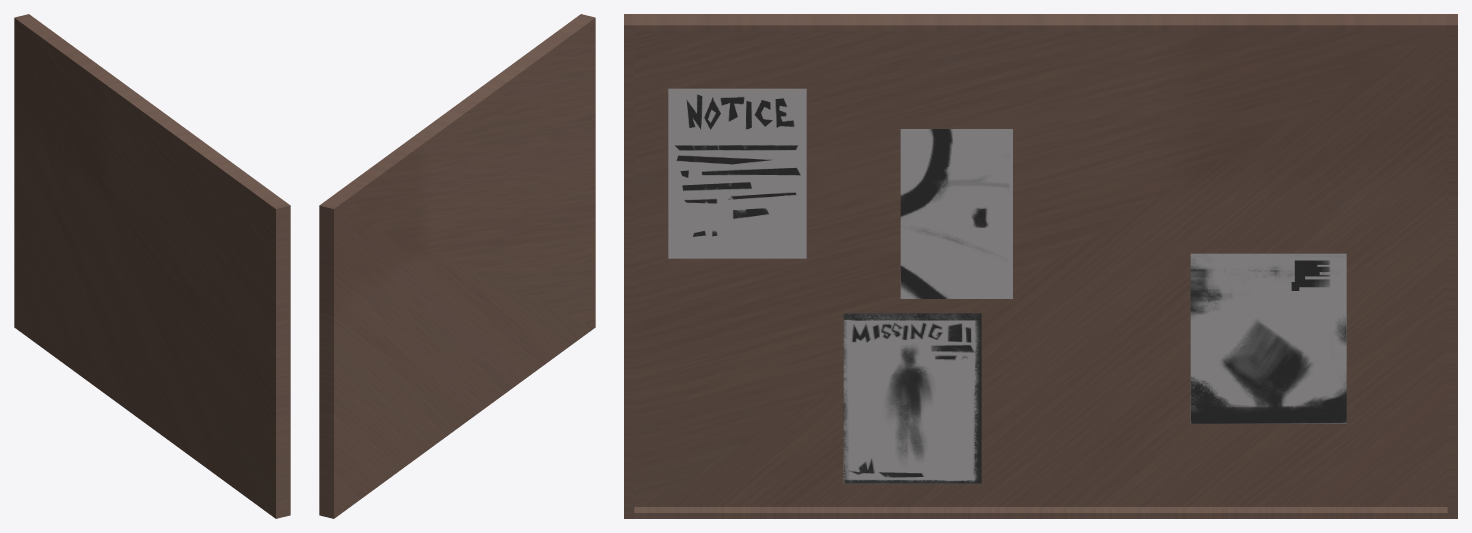
Rendered from Bulletin.fbx.
3 renders of one model, left to right at view 1: azimuth 30°, elevation 25°; view 2: azimuth 150°, elevation 25°; view 3: azimuth 270°, elevation 25°, orthographic. The views are drawn at different scales.
Visible parts, largest first — view 1: Board; view 2: Board; view 3: Board, Poster.002, Notice, Poster, Poster.001.
Part boxes in pixels (bbox=[...]): Board: bbox=[14, 14, 290, 518]; Board: bbox=[319, 14, 595, 518]; Board: bbox=[624, 14, 1457, 518]; Poster.002: bbox=[1190, 253, 1346, 423]; Notice: bbox=[668, 88, 806, 258]; Poster: bbox=[843, 313, 981, 483]; Poster.001: bbox=[900, 129, 1012, 298].
Size of the model in its own units: 8.07 by 162 by 247.
